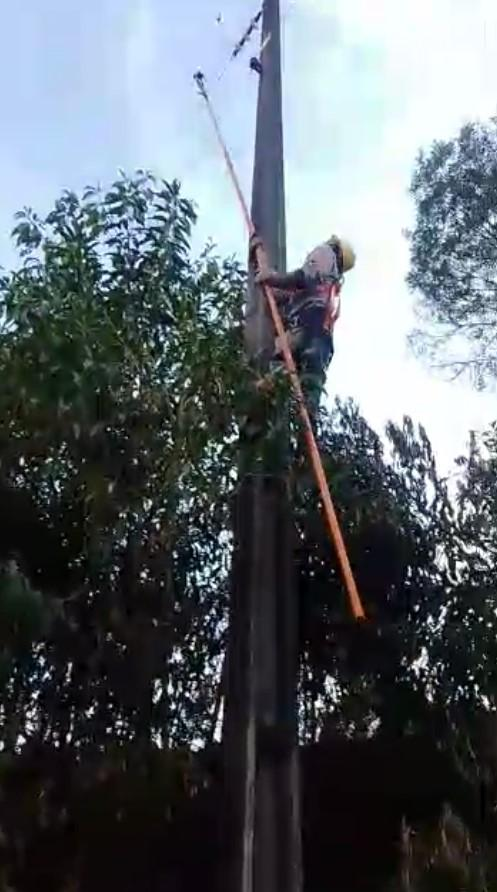Vara_Manobra: (192, 70, 363, 618)
